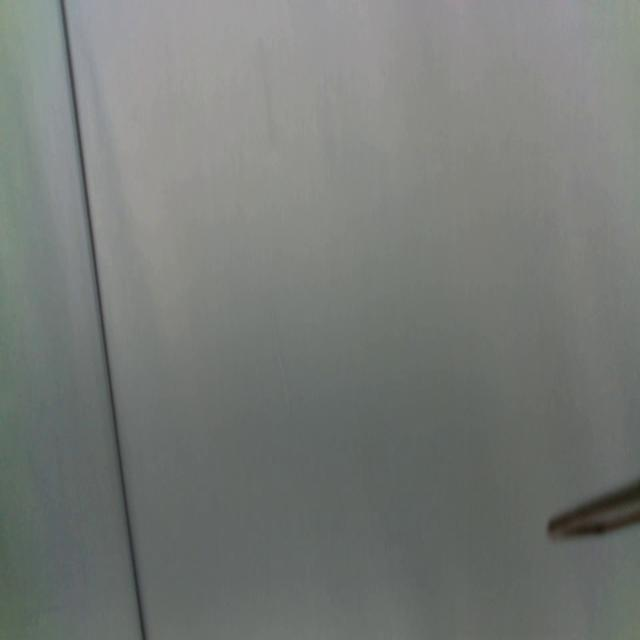crease: (59, 0, 147, 638)
